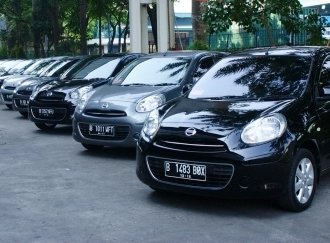plate: (165, 160, 206, 181), (89, 123, 114, 135), (39, 108, 53, 115)
